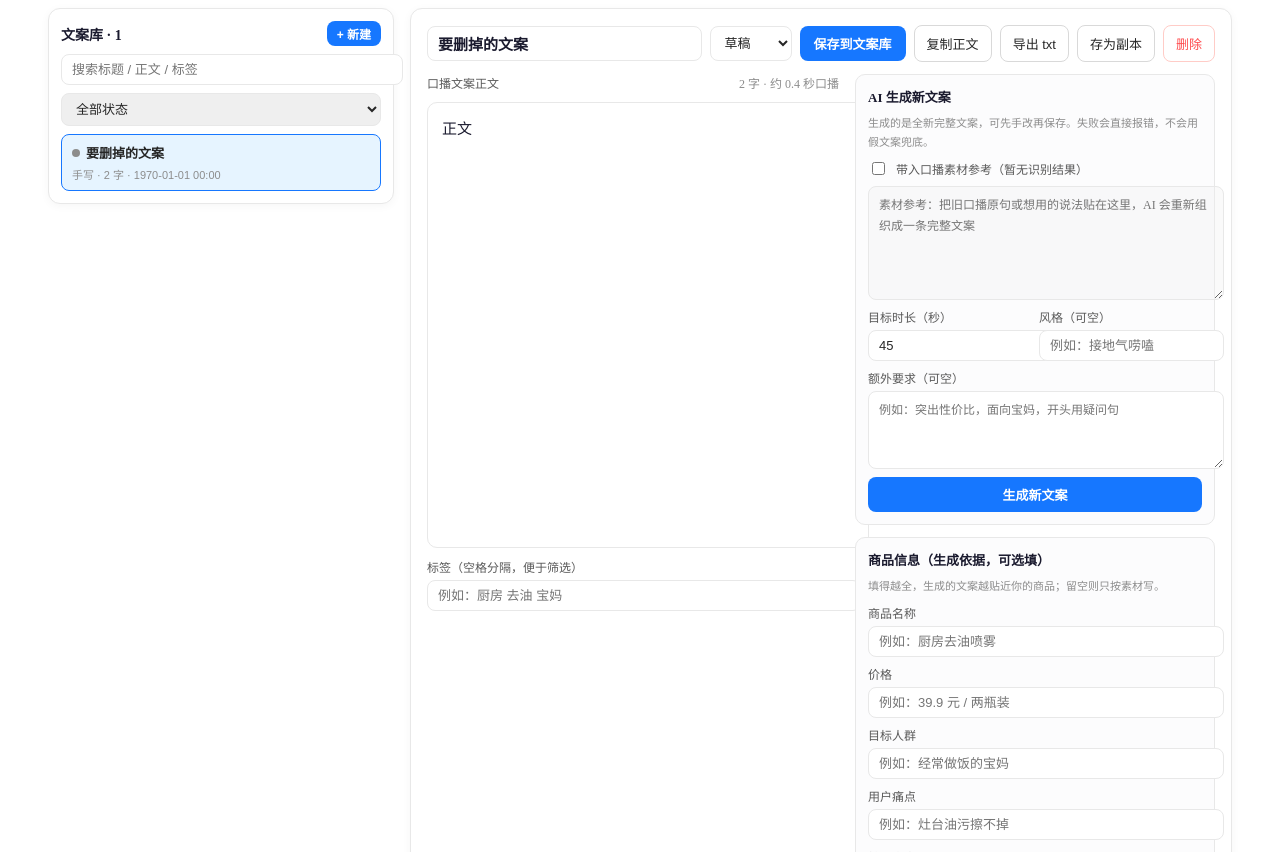
Test: CopywritingPanel › deletes the selected script after confirmation
What coordinates should you click on to do the following:
click the button "删除"
I would click on:
 (1189, 44)
Its box is [1163,25,1215,62].
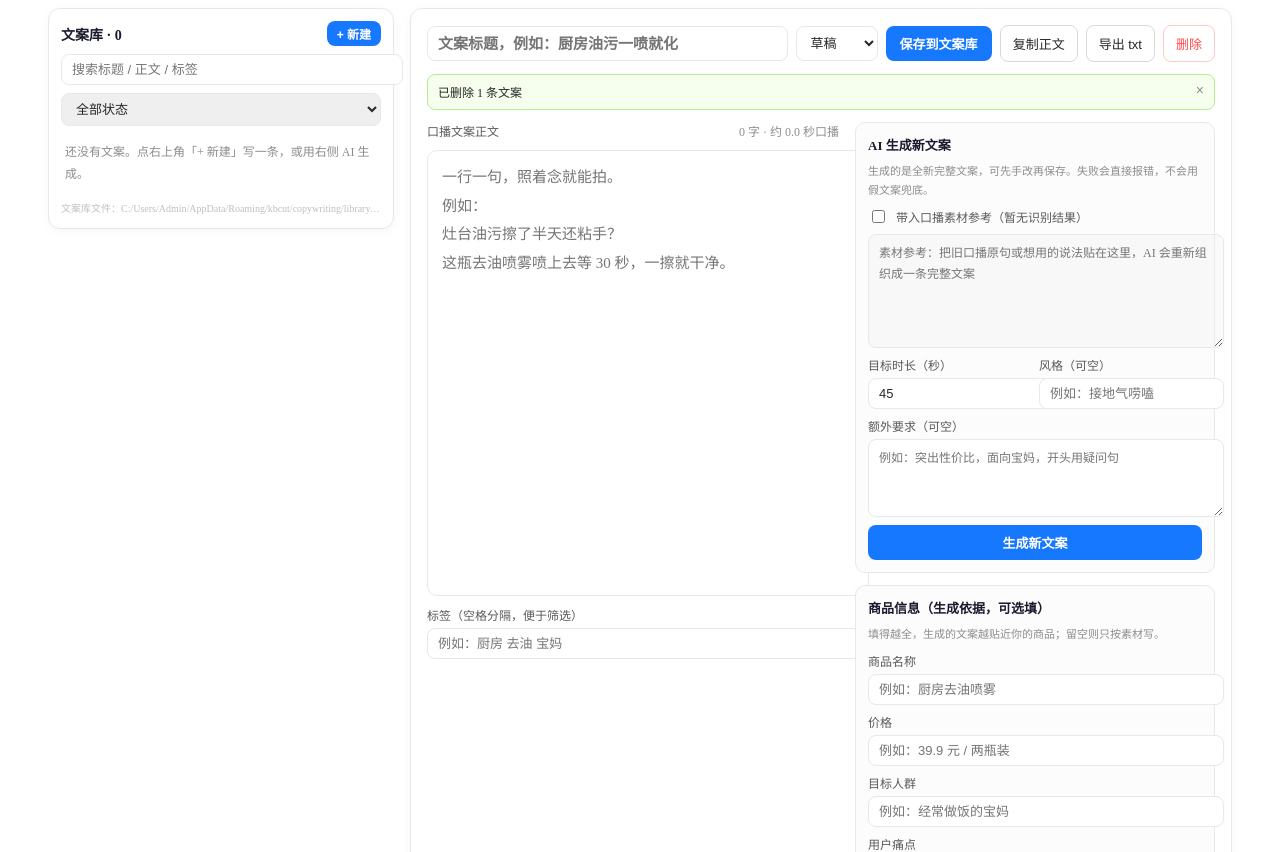
Expected: the text "文案库 · 0" is shown, [61,24,122,44]
